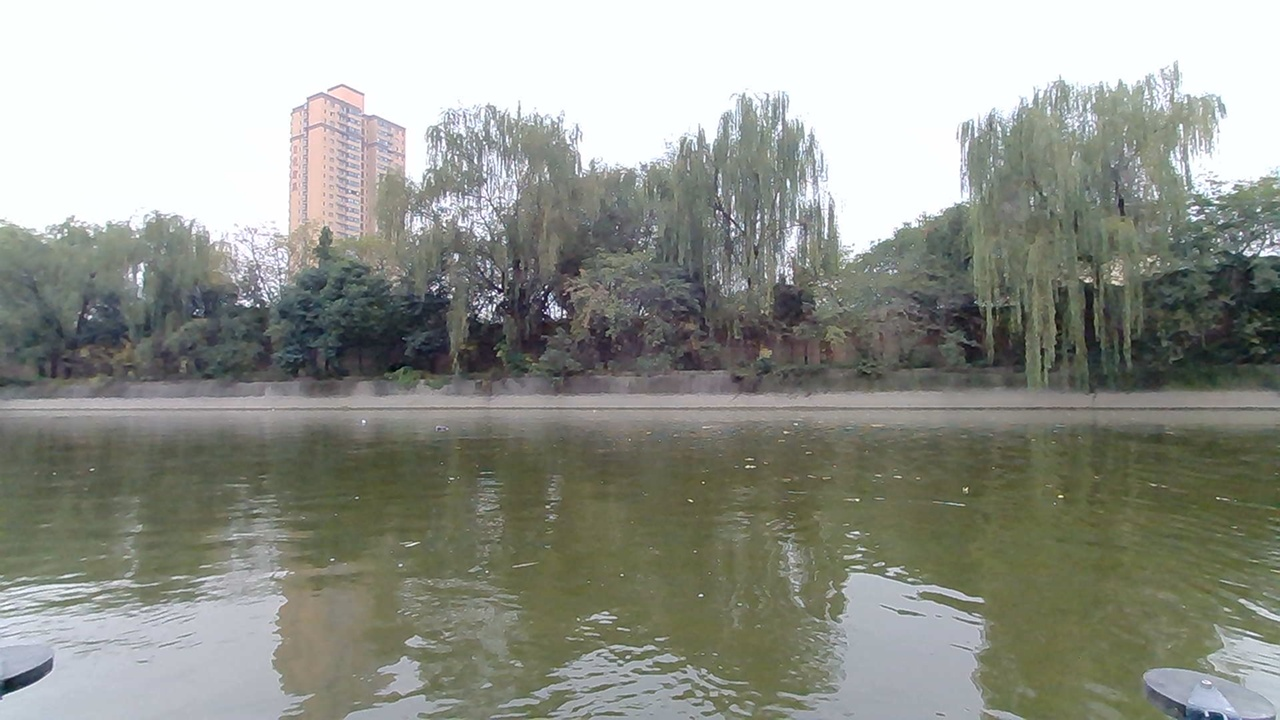bottle: (422, 421, 460, 441)
